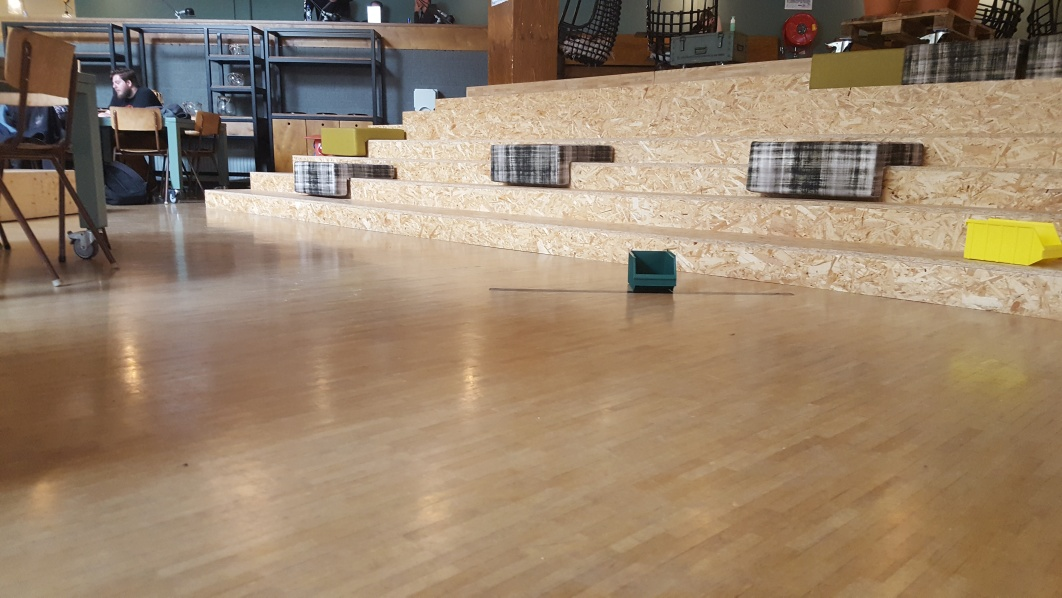tray: (958, 212, 1062, 270), (622, 244, 680, 294)
